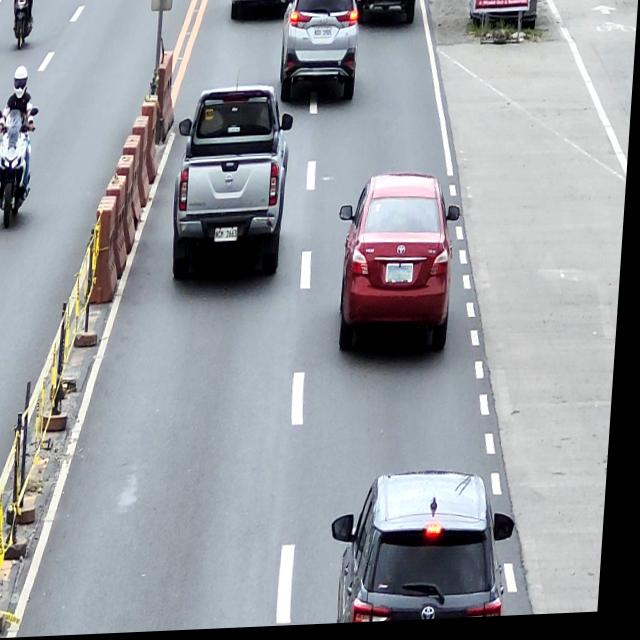Car: (334, 472, 526, 627), (173, 85, 297, 284), (336, 174, 465, 360), (273, 0, 366, 105)
License-Plate: (390, 269, 417, 286), (217, 229, 242, 244), (314, 29, 333, 42), (381, 0, 395, 3)
Motorcycle: (0, 107, 41, 230), (11, 0, 34, 49)
